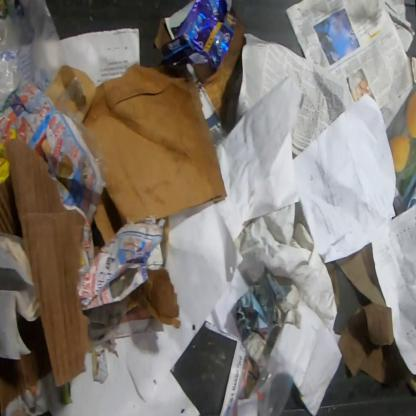cardboard: (83, 59, 228, 247), (0, 137, 94, 388), (190, 19, 248, 126), (157, 0, 235, 72), (0, 313, 52, 412), (42, 65, 97, 122), (154, 17, 174, 52)
soft_plastic: (0, 0, 64, 116), (58, 77, 110, 190), (245, 351, 294, 415), (84, 295, 128, 340)
